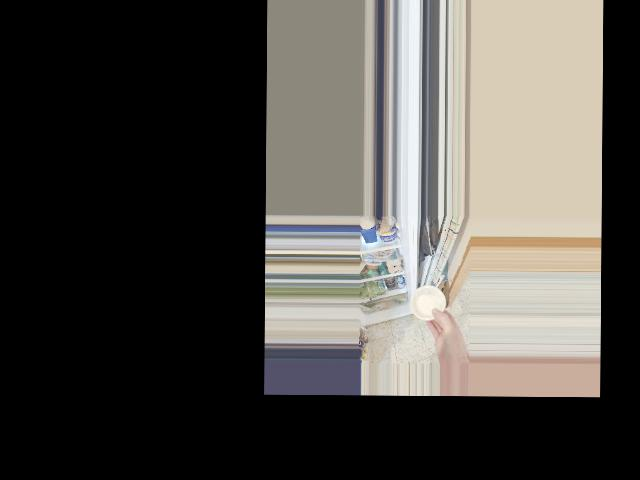cotage: (415, 287, 447, 322)
